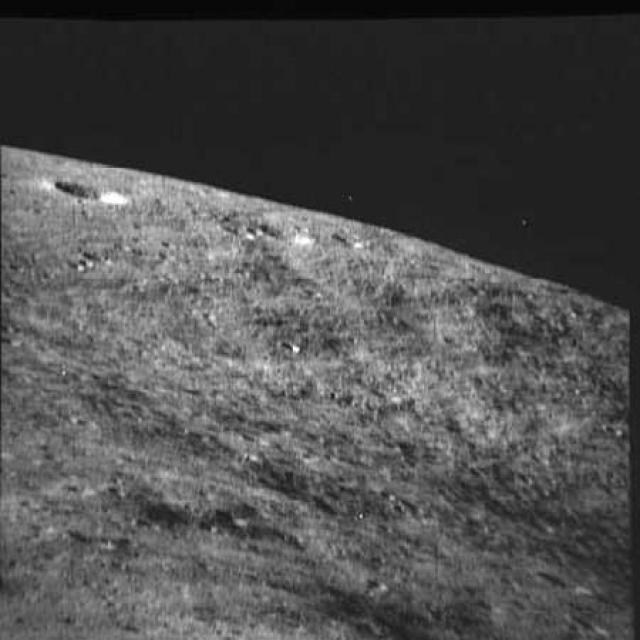crater: (38, 168, 139, 224), (251, 212, 313, 255), (324, 223, 379, 255)
